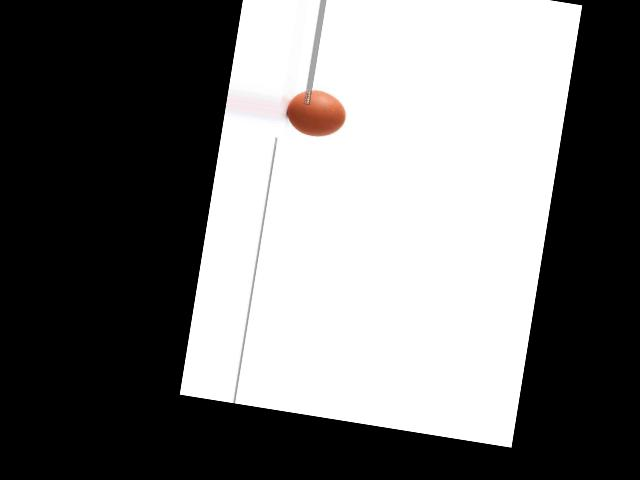egg: (285, 86, 348, 140)
